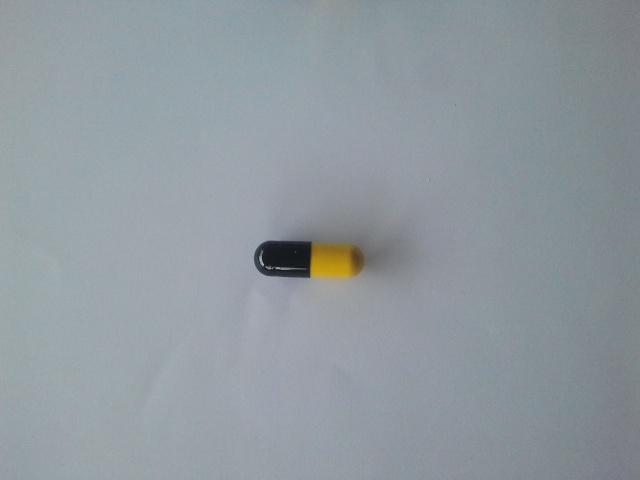capsule: (249, 237, 368, 283)
